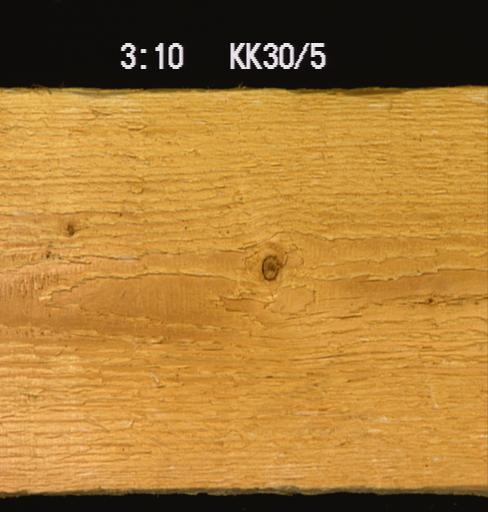dry_knot: (258, 250, 281, 283)
small_knot: (61, 217, 78, 236)
wave: (267, 86, 425, 98), (9, 86, 120, 101)
